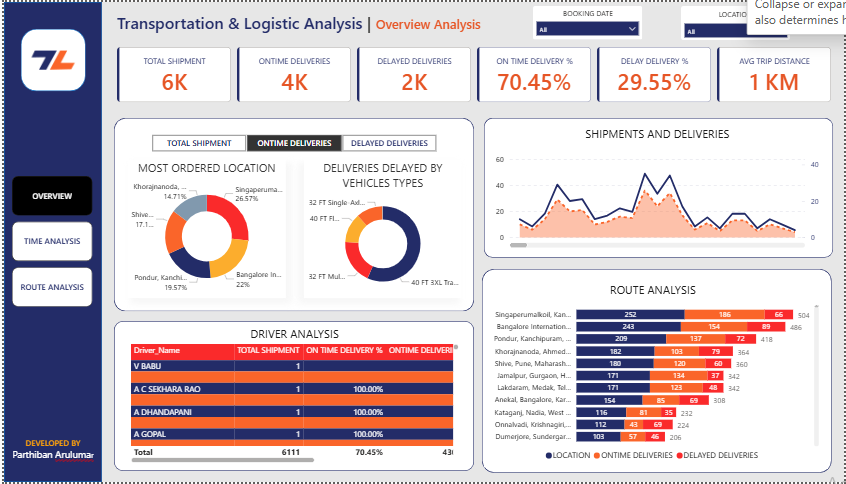

Layout of this report page (visuals, bound fields, positions):
{"tool":"powerbi","page":{"name":"OVERVIEW ","canvas":[1400,800],"ordinal":0},"visuals":[{"type":"shape","box":[1128.3,6.7,181.7,56.7],"z":0},{"type":"shape","box":[881.7,7.2,182.2,56.1],"z":1000},{"type":"shape","box":[183.3,192.6,600,322.2],"z":2000},{"type":"cardVisual","fields":{"Data":["Primary data.TOTAL SHIPMENT","Primary data.Delayed_deliveries","Primary data.On_time_deliveries","Primary data.DELAYED_DELIVERY%","Primary data.ON_TIME_DELIVERY%","Primary data.AVG_Distance_Per_Trip"]},"box":[182.9,70.2,1200,102.9],"z":3000},{"type":"textbox","box":[182.9,11.4,790.2,47.3],"z":4000},{"type":"slicer","fields":{"Values":["Dynamic Measure.Dynamic Measure"]},"box":[222.5,216.2,521.2,36.2],"z":5000},{"type":"shape","box":[0,0,163.3,800],"z":6000},{"type":"donutChart","title":"DELIVERIES DELAYED BY VEHICLES TYPES","fields":{"Category":["Primary data.vehicleType"],"Y":["Primary data.ONTIME DELIVERIES"]},"box":[500,263,263,229.6],"z":7000},{"type":"donutChart","title":"MOST ORDERED LOCATION","fields":{"Category":["Primary data.DestinationLocation"],"Y":["Primary data.ONTIME DELIVERIES"]},"box":[207.4,263,263,229.6],"z":8000},{"type":"shape","box":[183.3,531.5,600,250],"z":9000},{"type":"pivotTable","title":"DRIVER ANALYSIS","fields":{"Rows":["Primary data.Driver_Name"],"Values":["Primary data.TOTAL SHIPMENT","Primary data.ON TIME DELIVERY %","Primary data.ONTIME DELIVERIES","Primary data.DELAY DELIVERY %","Primary data.DELAYED DELIVERIES"]},"box":[207.4,540.7,555.6,233.3],"z":10000},{"type":"shape","box":[800.3,193.4,581.8,232.7],"z":11000},{"type":"shape","box":[796.7,445.7,582.9,339.6],"z":12000},{"type":"lineChart","title":"SHIPMENTS AND DELIVERIES","fields":{"Category":["Primary data.BookingID_Date"],"Y":["Primary data.UNIQUE SHIPMENTS"],"Y2":["Primary data.DELAYED DELIVERIES"]},"box":[814.6,205.9,547.8,207.7],"z":13000},{"type":"barChart","title":"ROUTE ANALYSIS","fields":{"Category":["Primary data.Destination_Location"],"Y":["CountNonNull(Primary data.Origin_Location)","Primary data.ONTIME DELIVERIES","Primary data.DELAYED DELIVERIES"]},"box":[800,466.9,563.3,308.6],"z":14000},{"type":"slicer","fields":{"Values":["Dim_date.Year"]},"box":[881.7,26.7,182.2,33.9],"z":15000},{"type":"textbox","box":[897.8,5.6,150,38.3],"z":16000},{"type":"slicer","fields":{"Values":["Primary data.Origin_Location"]},"box":[1128.3,30,183.3,33.3],"z":17000},{"type":"textbox","box":[1163.3,6.7,111.7,35],"z":18000},{"type":"shape","box":[28.9,44.4,107.5,103.6],"z":19000,"group":"g1"},{"type":"pageNavigator","box":[14,290,134,218],"z":19000},{"type":"group","id":"g1","title":"Group 1","box":[28.9,44.4,106.7,104.4],"z":20000},{"type":"image","box":[37.8,53.3,90,87.8],"z":20000,"group":"g1"},{"type":"textbox","box":[6,722,150,52],"z":20001}]}

Visuals, with their boxes on the page's 1400x800 design canvas (x1, y1, x2, y2). These are canvas units, not pixel positions in the 846x484 screenshot, which may show the page scaled, cropped or inside an application window:
shape: <box>1128,7,1310,63</box>
shape: <box>882,7,1064,63</box>
shape: <box>183,193,783,515</box>
cardVisual - Primary data.TOTAL SHIPMENT x Primary data.Delayed_deliveries: <box>183,70,1383,173</box>
textbox: <box>183,11,973,59</box>
slicer - Dynamic Measure.Dynamic Measure: <box>222,216,744,252</box>
shape: <box>0,0,163,800</box>
"DELIVERIES DELAYED BY VEHICLES TYPES" donutChart: <box>500,263,763,493</box>
"MOST ORDERED LOCATION" donutChart: <box>207,263,470,493</box>
shape: <box>183,532,783,782</box>
"DRIVER ANALYSIS" pivotTable: <box>207,541,763,774</box>
shape: <box>800,193,1382,426</box>
shape: <box>797,446,1380,785</box>
"SHIPMENTS AND DELIVERIES" lineChart: <box>815,206,1362,414</box>
"ROUTE ANALYSIS" barChart: <box>800,467,1363,776</box>
slicer - Dim_date.Year: <box>882,27,1064,61</box>
textbox: <box>898,6,1048,44</box>
slicer - Primary data.Origin_Location: <box>1128,30,1312,63</box>
textbox: <box>1163,7,1275,42</box>
shape: <box>29,44,136,148</box>
pageNavigator: <box>14,290,148,508</box>
"Group 1" group: <box>29,44,136,149</box>
image: <box>38,53,128,141</box>
textbox: <box>6,722,156,774</box>
